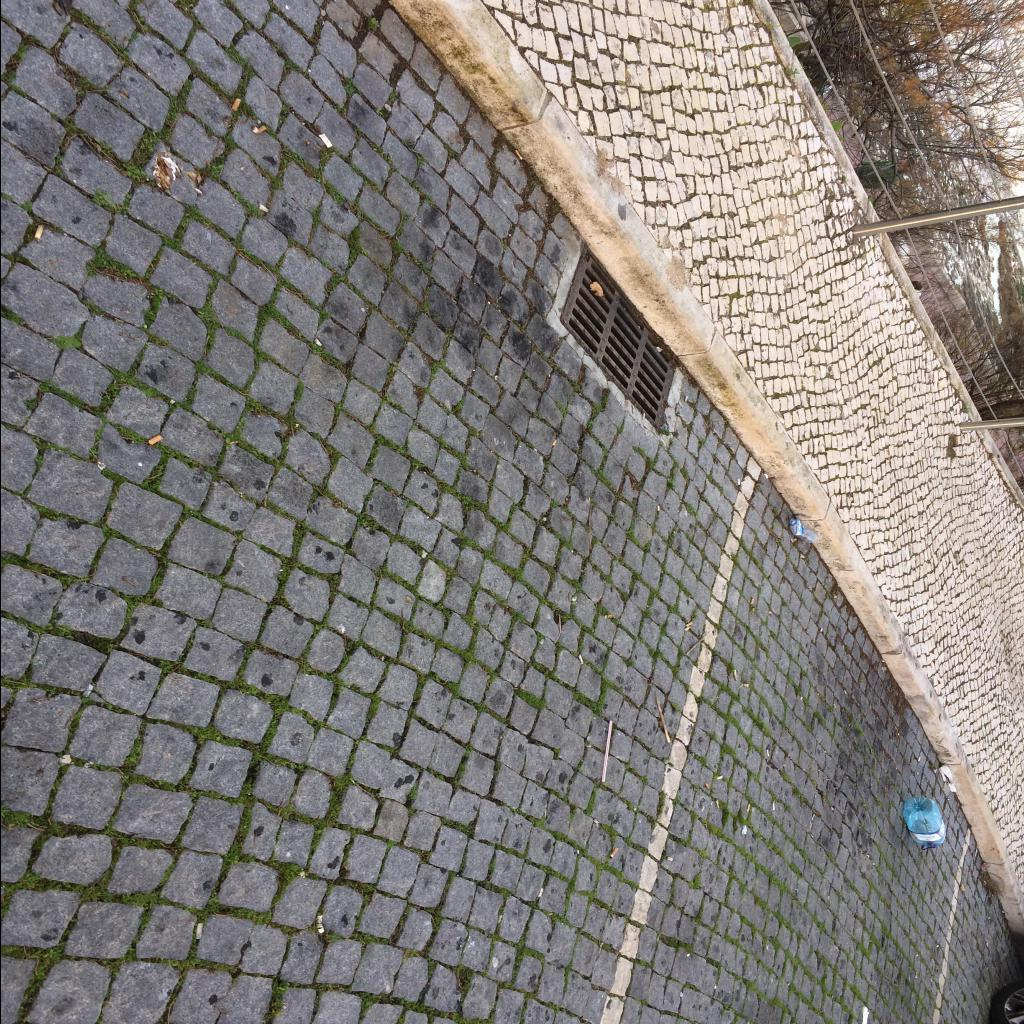Cigarette: (148, 435, 164, 445), (230, 98, 241, 112), (252, 126, 266, 134), (258, 203, 268, 213), (608, 848, 618, 858), (514, 150, 522, 160), (577, 654, 583, 664), (704, 783, 710, 791), (732, 670, 736, 682), (762, 472, 768, 480), (686, 622, 692, 628), (550, 440, 556, 446), (715, 800, 719, 808), (746, 804, 750, 812), (765, 750, 769, 758), (808, 822, 812, 830), (750, 597, 754, 605), (736, 478, 740, 486), (916, 754, 920, 762), (684, 627, 690, 632), (666, 858, 672, 862), (716, 776, 722, 780), (742, 683, 748, 687), (792, 538, 798, 542), (772, 801, 774, 811), (818, 628, 822, 633), (656, 505, 658, 511), (914, 972, 916, 978)
Clear plastic bottle: (902, 797, 945, 850), (788, 518, 817, 544)
